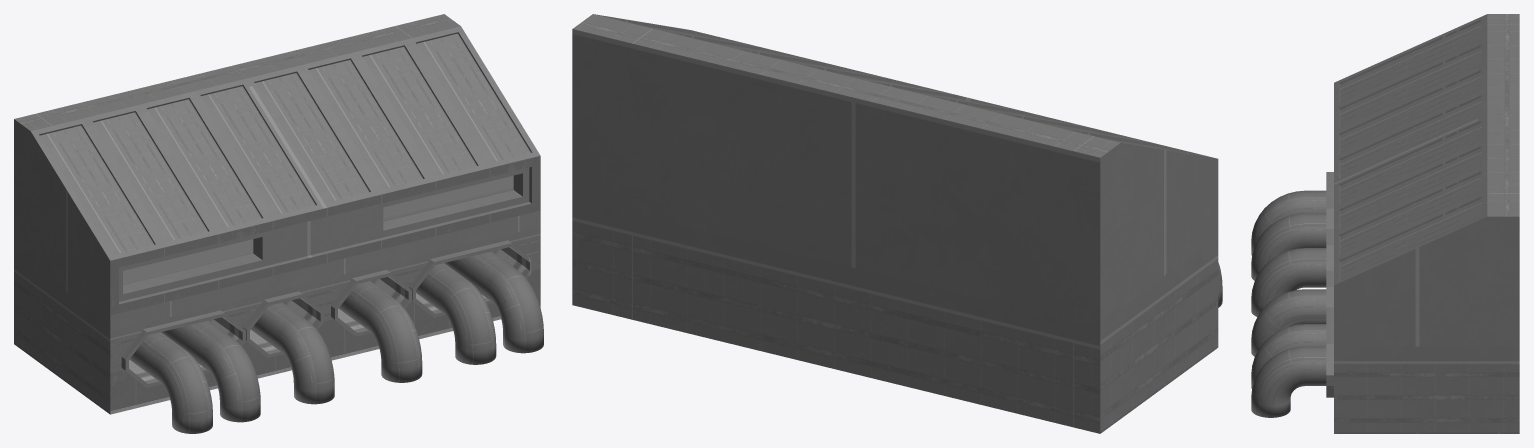
Rendered from SM_module_05.glb.
3 renders of one model, left to right at view 1: azimuth 30°, elevation 25°; view 2: azimuth 150°, elevation 25°; view 3: azimuth 270°, elevation 25°, orthographic. The views are drawn at different scales.
Visible parts, largest first — view 1: SM_module_05; view 2: SM_module_05; view 3: SM_module_05.
Part boxes in pixels (x1,y1,x2,y2): SM_module_05: [14, 14, 543, 433]; SM_module_05: [572, 14, 1222, 433]; SM_module_05: [1251, 14, 1519, 433].
Bounding box in the file's own units: 8 × 4 × 4.48.
1 material, 1 textured.
